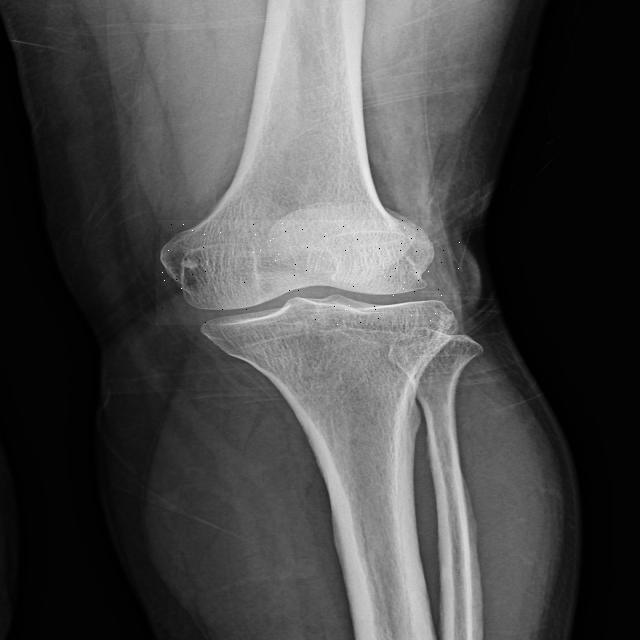osteo: (156, 220, 462, 325)
